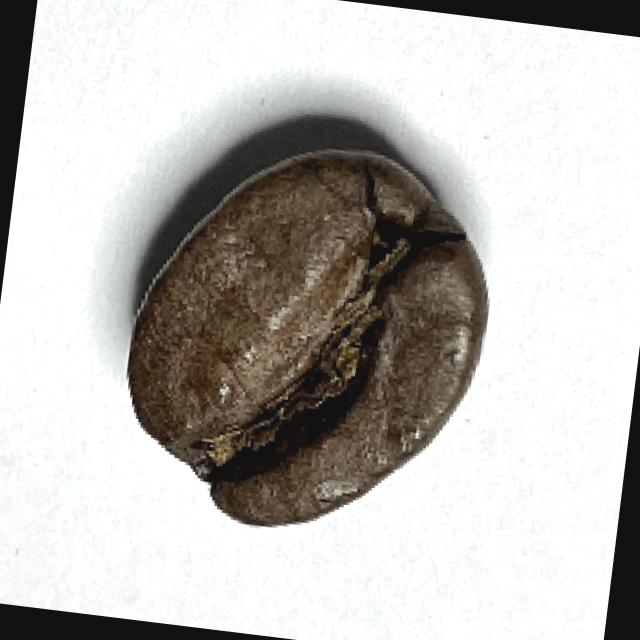bean: (104, 122, 509, 555)
